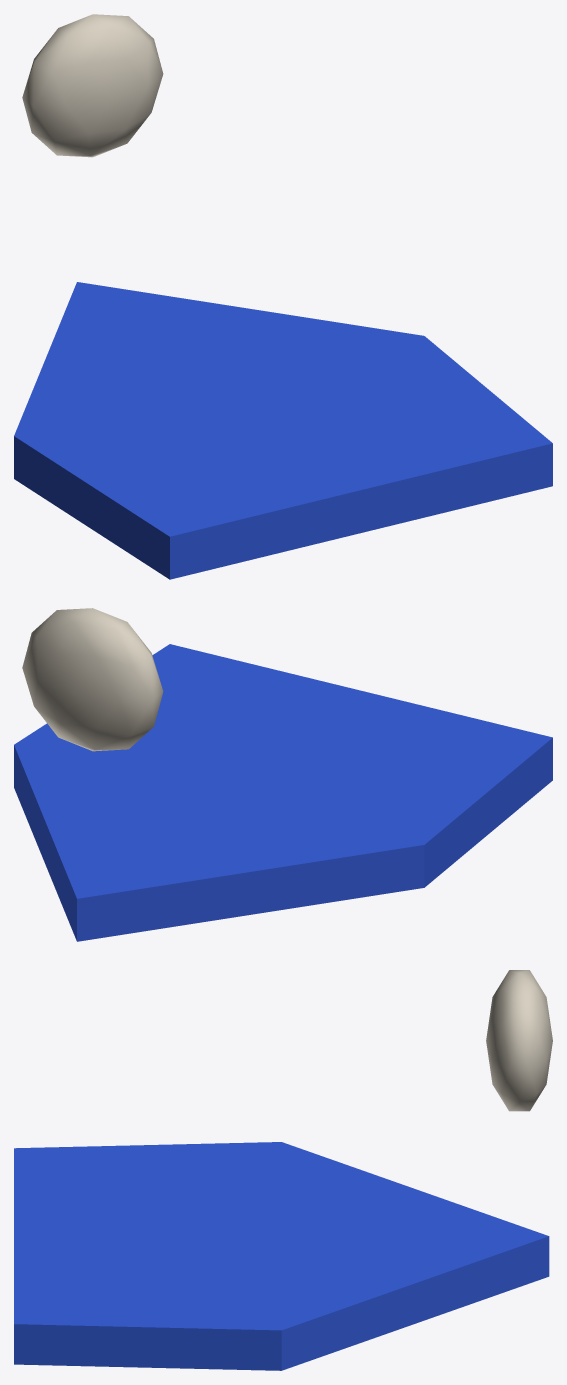
The model's file is cobalt_shield.glb.
3 renders of one model, top to bottom at view 1: azimuth 30°, elevation 25°; view 2: azimuth 150°, elevation 25°; view 3: azimuth 270°, elevation 25°, orthographic. The views are drawn at different scales.
Visible parts, largest first — view 1: cobalt_shield_v0; view 2: cobalt_shield_v0; view 3: cobalt_shield_v0.
Boxes of the visible parts, left/top/right/bottom form: cobalt_shield_v0: left=14, top=14, right=552, bottom=579; cobalt_shield_v0: left=14, top=608, right=552, bottom=941; cobalt_shield_v0: left=14, top=970, right=552, bottom=1370.
Size of the model in its own units: 0.3 by 0.225 by 0.3625.
